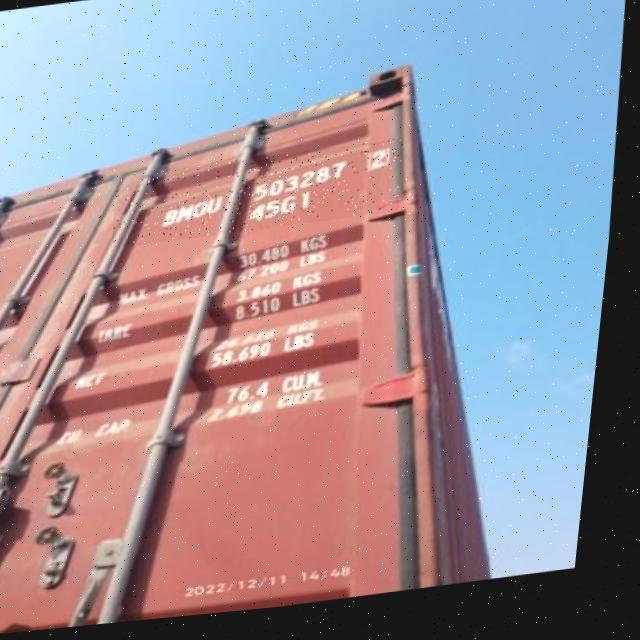container_number_h: (114, 146, 409, 251)
